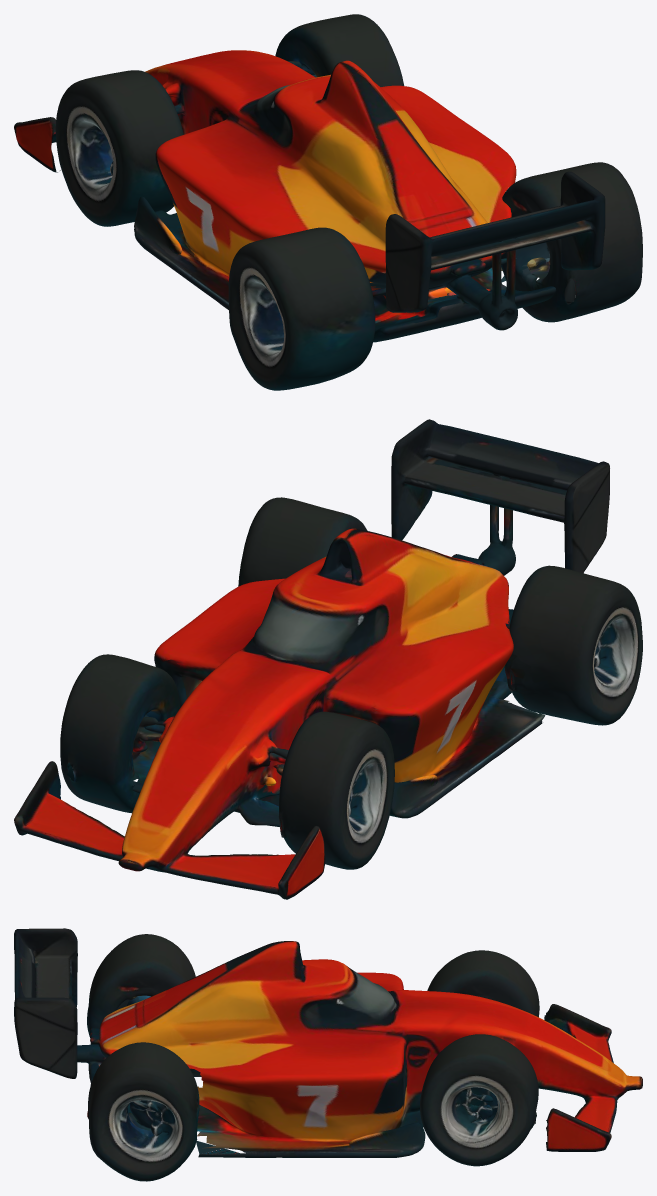
The model's file is raceCar3.glb.
3 renders of one model, top to bottom at view 1: azimuth 30°, elevation 25°; view 2: azimuth 150°, elevation 25°; view 3: azimuth 270°, elevation 25°, orthographic. The views are drawn at different scales.
Visible parts, largest first — view 1: car_body, Wheel_RL, Wheel_FL, Wheel_RR, Wheel_FR; view 2: car_body, Wheel_RL, Wheel_FL, Wheel_FR, Wheel_RR; view 3: car_body, Wheel_RR, Wheel_FR, Wheel_RL, Wheel_FL.
Part boxes in pixels (<box>): car_body: <box>14,50,605,342</box>; Wheel_RL: <box>228,227,375,390</box>; Wheel_FL: <box>55,70,183,226</box>; Wheel_RR: <box>501,162,642,322</box>; Wheel_FR: <box>275,14,404,86</box>; car_body: <box>14,419,609,899</box>; Wheel_RL: <box>507,565,642,725</box>; Wheel_FL: <box>278,711,394,869</box>; Wheel_FR: <box>60,654,180,813</box>; Wheel_RR: <box>238,497,367,586</box>; car_body: <box>14,928,642,1157</box>; Wheel_RR: <box>87,1042,199,1181</box>; Wheel_FR: <box>420,1034,538,1166</box>; Wheel_RL: <box>87,934,195,1037</box>; Wheel_FL: <box>427,950,539,1017</box>.
Size of the model in its own units: 1.52 by 0.8652 by 2.84.
Materials: 1 (1 with a texture image).
